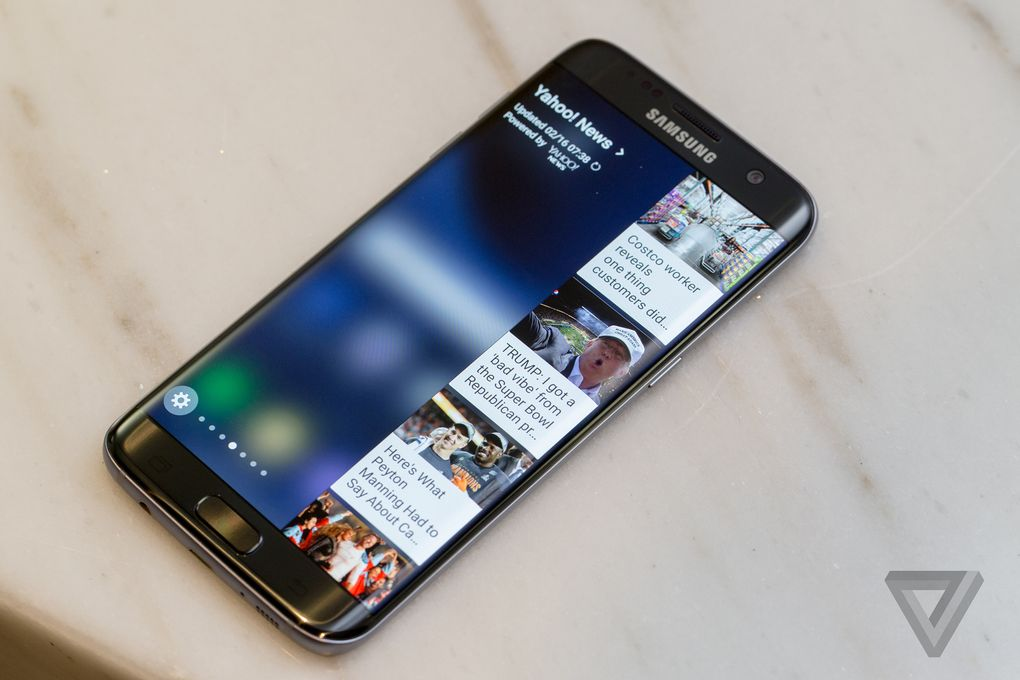smartphone: (103, 38, 820, 656)
